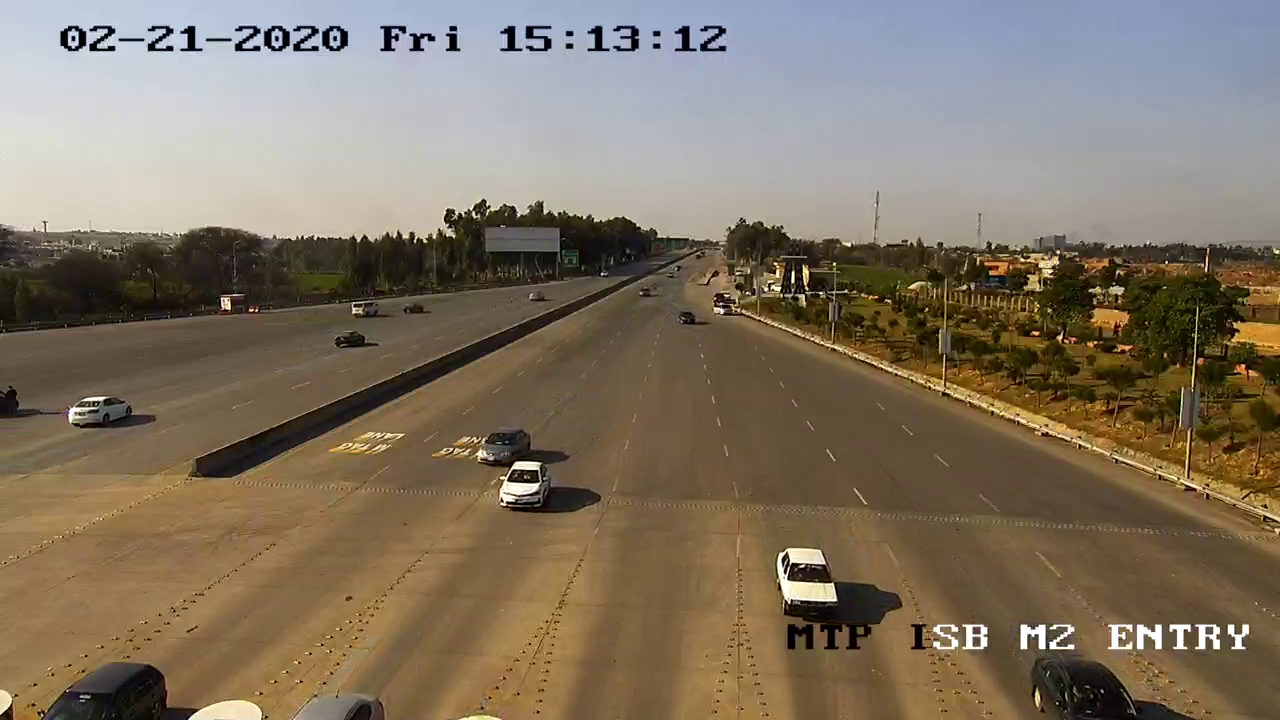f1: (769, 540, 847, 624), (498, 458, 553, 518), (477, 421, 536, 469)
